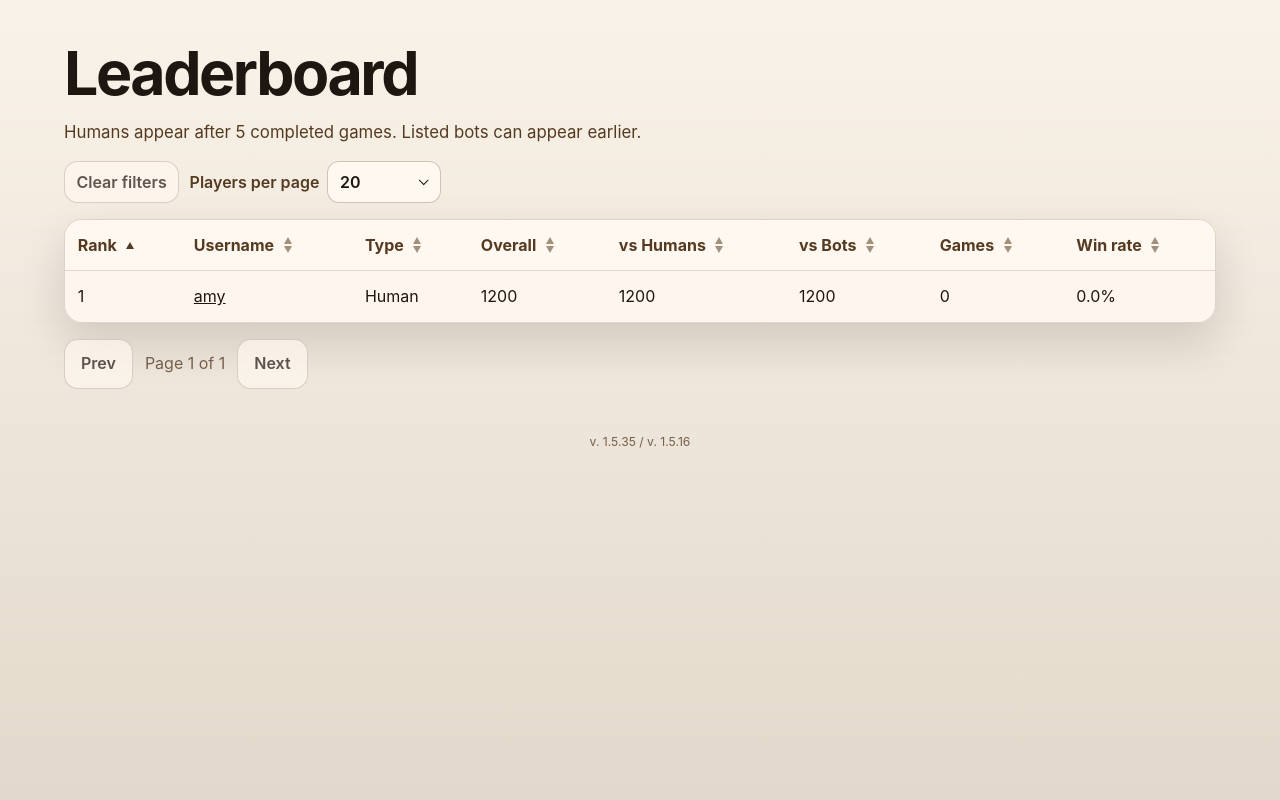
Test case: LeaderboardPage › sorts_from_column_headers
Expected: the link "amy" is shown, [194, 286, 226, 306]
Click the button named "Sort Games" at (1008, 245), box [999, 236, 1016, 254]
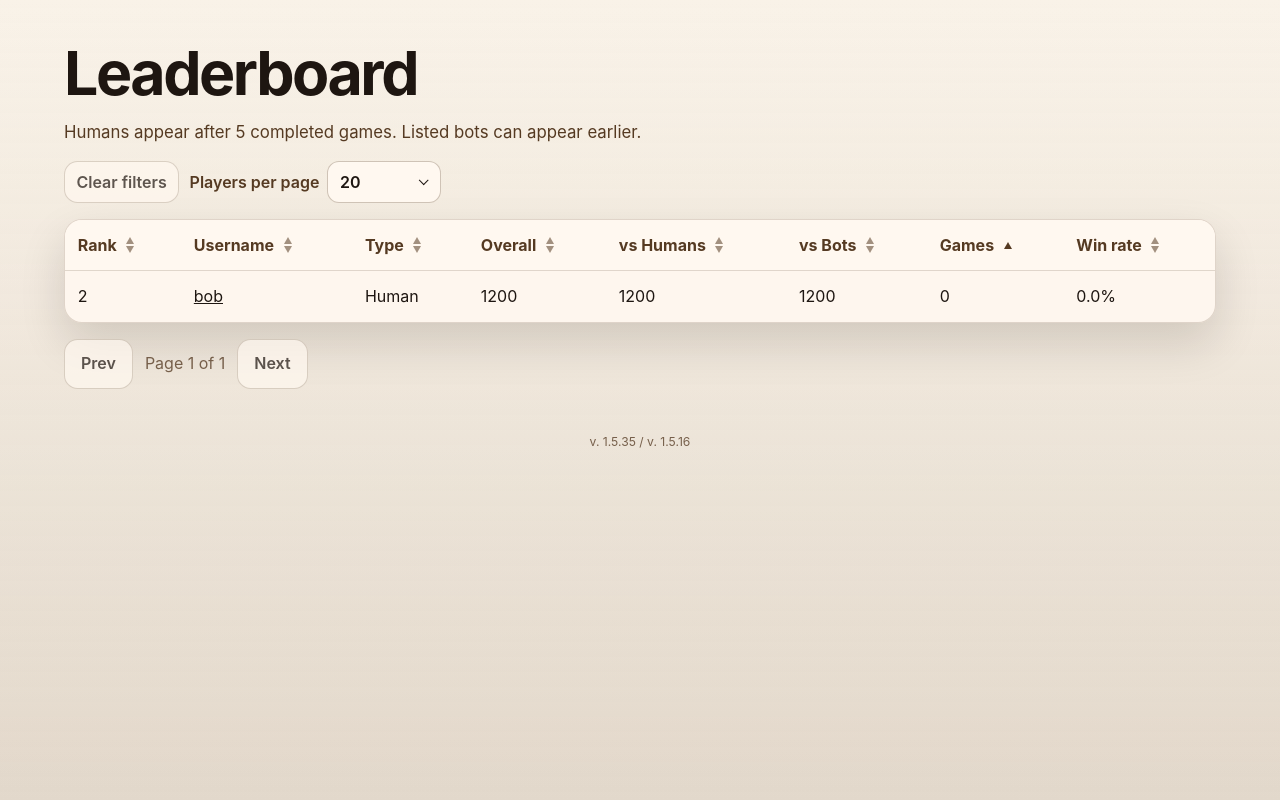
Now the link "bob" is shown, box [194, 286, 223, 306]
Click the button named "Sort Games" at (1008, 245), box [999, 236, 1016, 254]
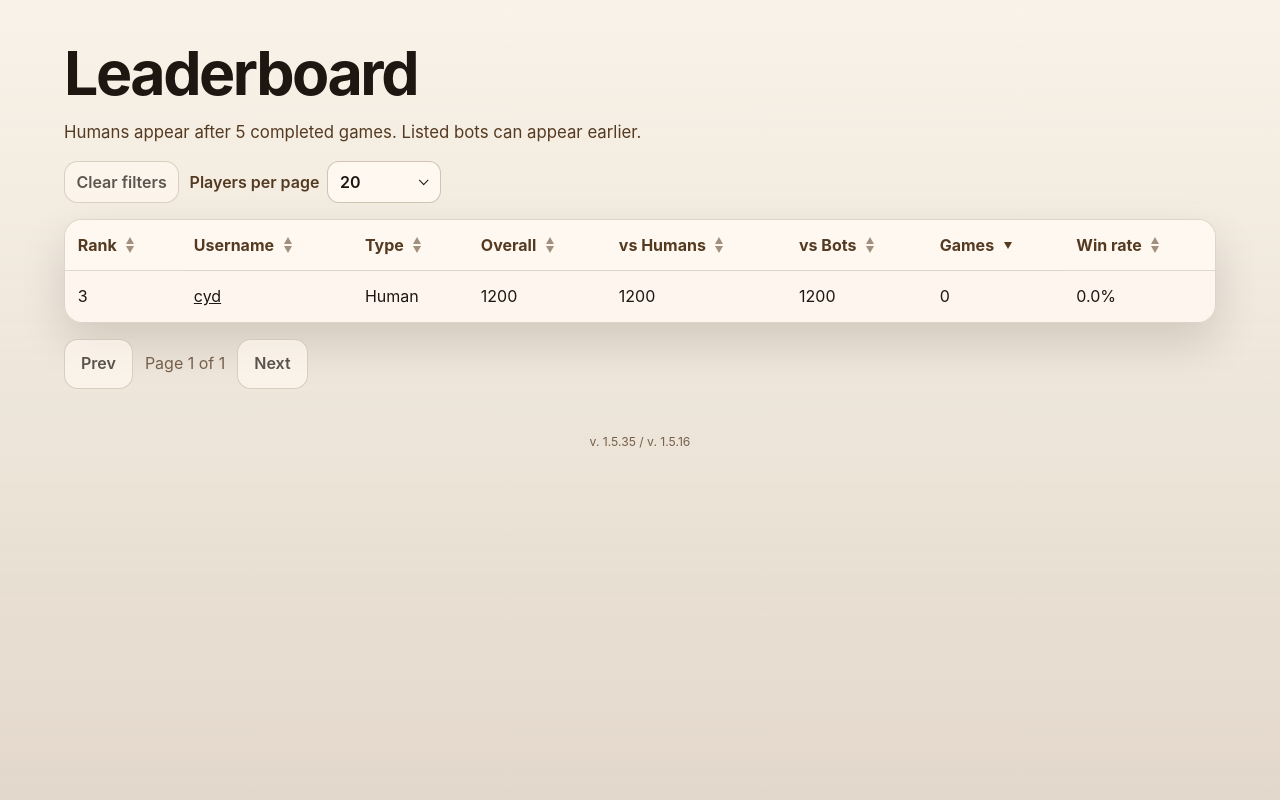
Now the link "cyd" is shown, box [194, 286, 221, 306]
Click the button named "Sort Games" at (1008, 245), box [999, 236, 1016, 254]
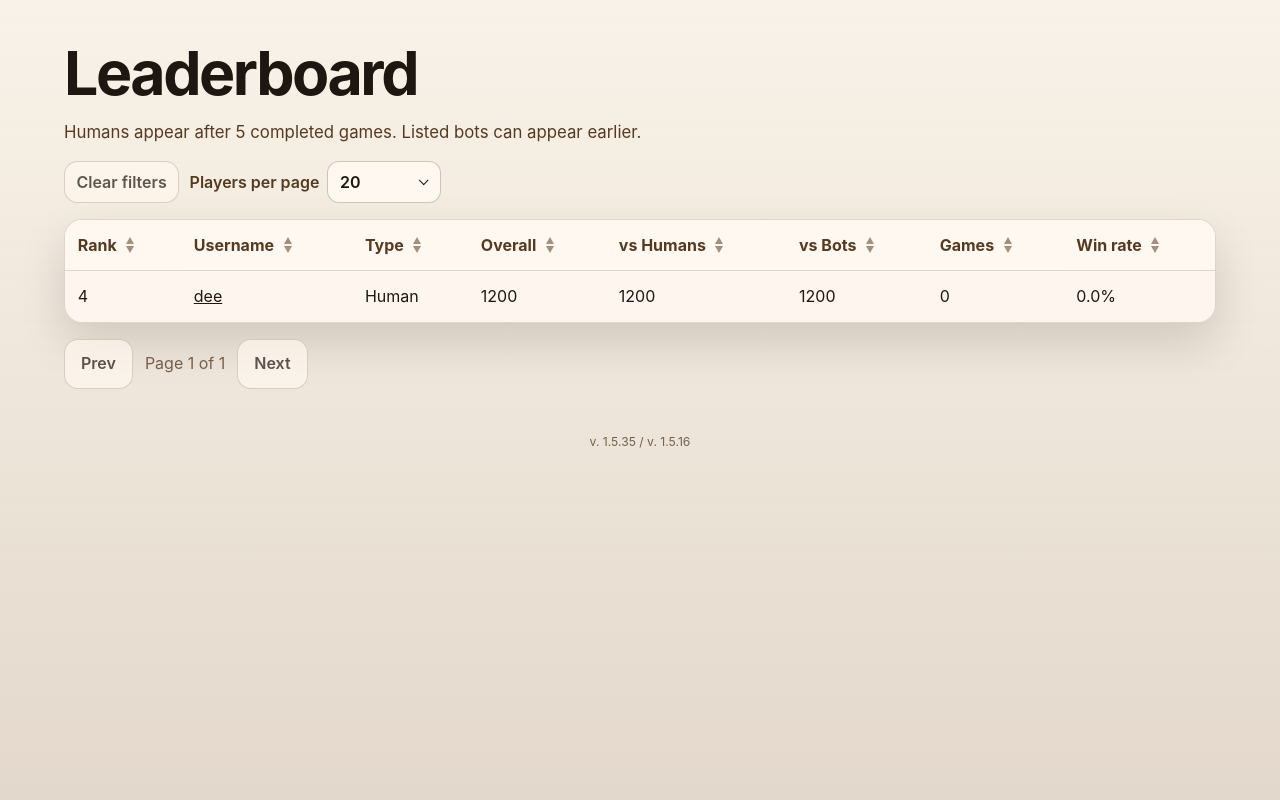
Now the link "dee" is shown, box [194, 286, 222, 306]
